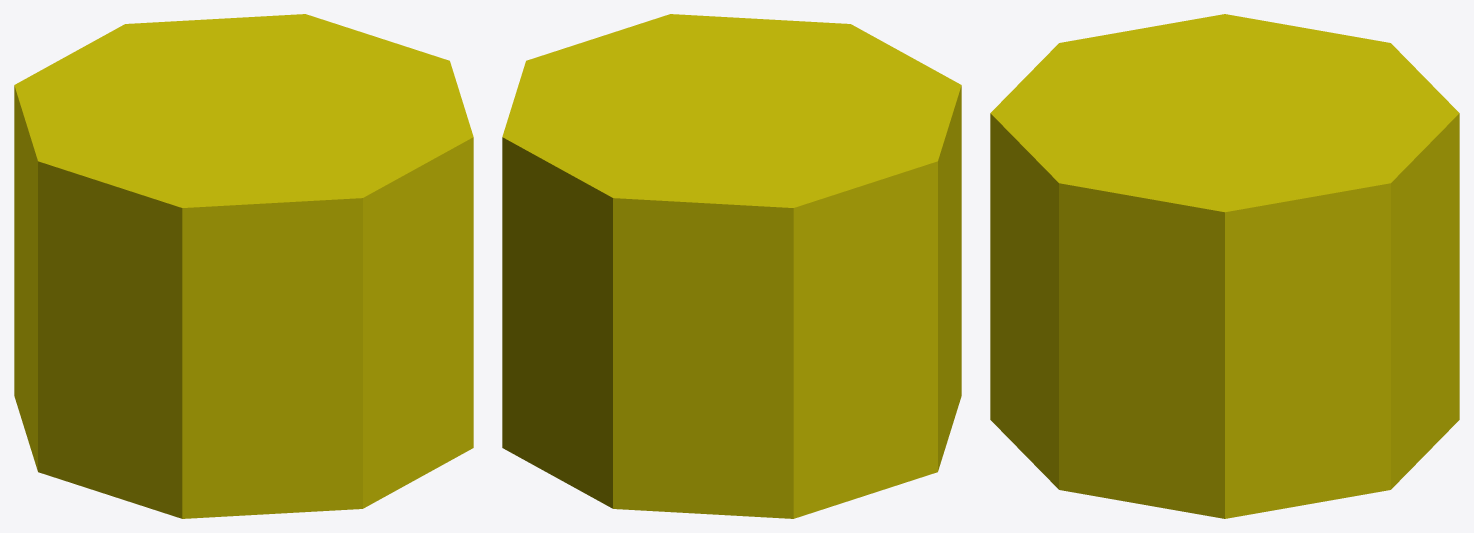
3 views of the same model, side by side, from view 1: azimuth 30°, elevation 25°; view 2: azimuth 150°, elevation 25°; view 3: azimuth 270°, elevation 25° (orthographic).
Visible parts, largest first — view 1: Cylinder; view 2: Cylinder; view 3: Cylinder.
Boxes of the visible parts, x1,y1,x2,y2 form: Cylinder: (14, 14, 473, 518); Cylinder: (502, 14, 961, 518); Cylinder: (990, 14, 1459, 518).
Size of what is drawn, in the model's own units: 6.6 by 6.6 by 4.76.
